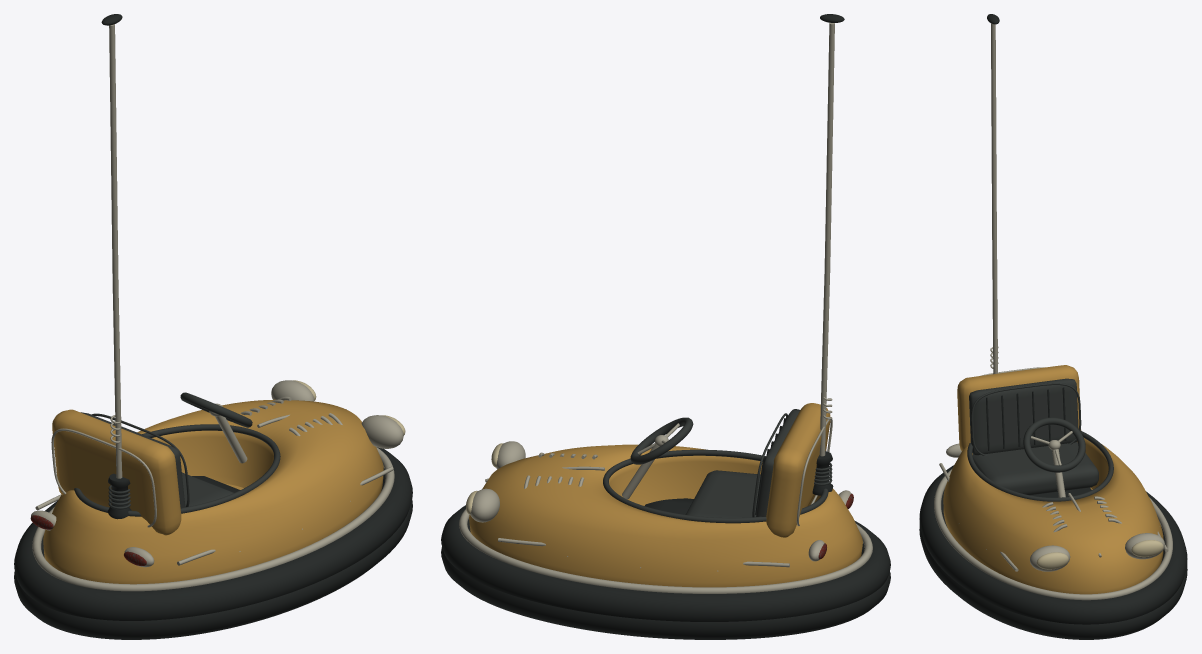
The model's file is SM_BumperCar_e4a8973245.fbx.
The picture shows the model from 3 angles, left to right: view 1: azimuth 30°, elevation 25°; view 2: azimuth 150°, elevation 25°; view 3: azimuth 270°, elevation 25°; orthographic projection. The views are drawn at different scales.
Visible parts, largest first — view 1: SM_BumperCar_e4a8973245; view 2: SM_BumperCar_e4a8973245; view 3: SM_BumperCar_e4a8973245.
Boxes of the visible parts, x1,y1,x2,y2 form: SM_BumperCar_e4a8973245: (14, 14, 412, 639); SM_BumperCar_e4a8973245: (441, 14, 890, 639); SM_BumperCar_e4a8973245: (919, 14, 1187, 639).
Size of what is drawn, in the model's own units: 262 by 184 by 373.
Materials: 6 (1 with a texture image).
